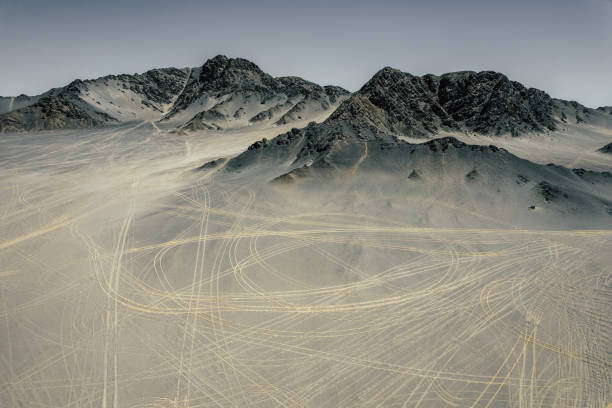vehicle_track: (77, 213, 462, 320), (11, 304, 281, 363), (170, 175, 214, 407), (364, 320, 479, 405), (503, 273, 591, 368), (484, 271, 557, 373), (100, 208, 136, 407)
